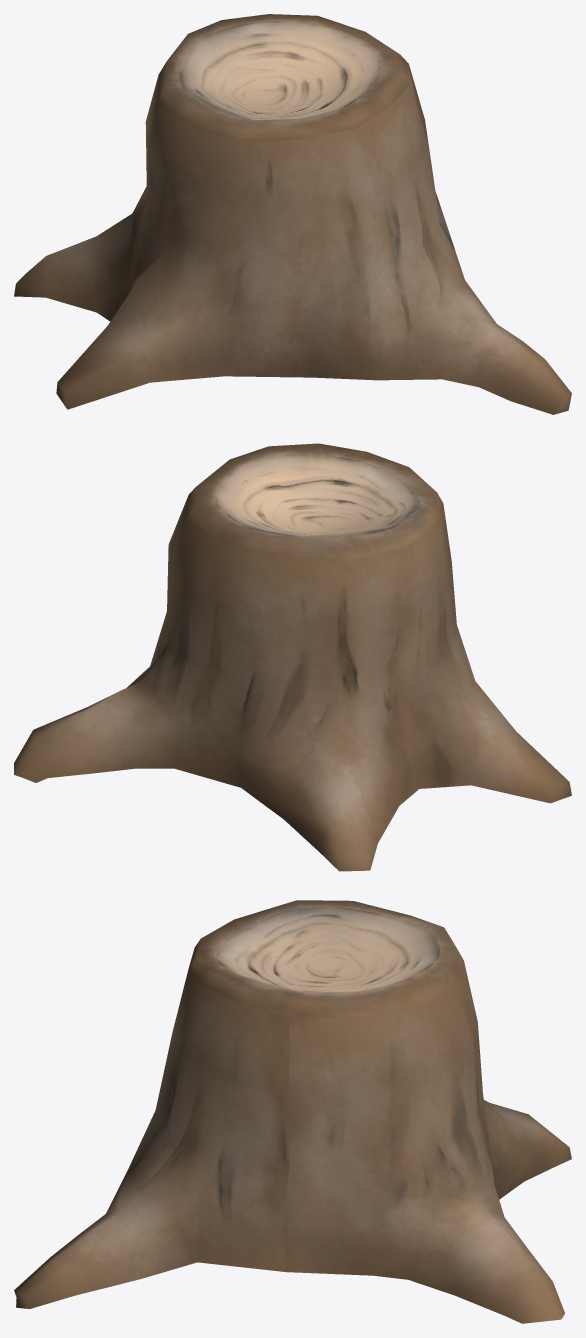
Rendered from stump.fbx.
3 renders of one model, top to bottom at view 1: azimuth 30°, elevation 25°; view 2: azimuth 150°, elevation 25°; view 3: azimuth 270°, elevation 25°, orthographic. The views are drawn at different scales.
Parts seen in each view (by area): view 1: Plane; view 2: Plane; view 3: Plane.
Part boxes in pixels (x1=…): Plane: x1=14, y1=14, x2=571, y2=414; Plane: x1=14, y1=443, x2=571, y2=871; Plane: x1=14, y1=900, x2=571, y2=1323.
Bounding box in the file's own units: 400 × 236 × 411.
Materials: 1 (1 with a texture image).
